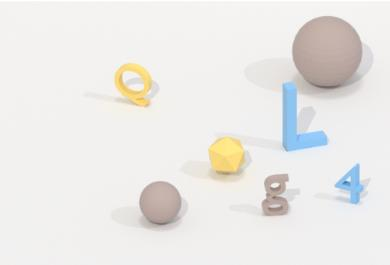0-Tron: (289, 12, 367, 89), (133, 177, 185, 228)
0-TronCanh: (204, 132, 250, 179)
4: (331, 160, 369, 207)
L: (278, 77, 330, 156)
Q: (110, 59, 156, 111)
g: (258, 169, 292, 219)
